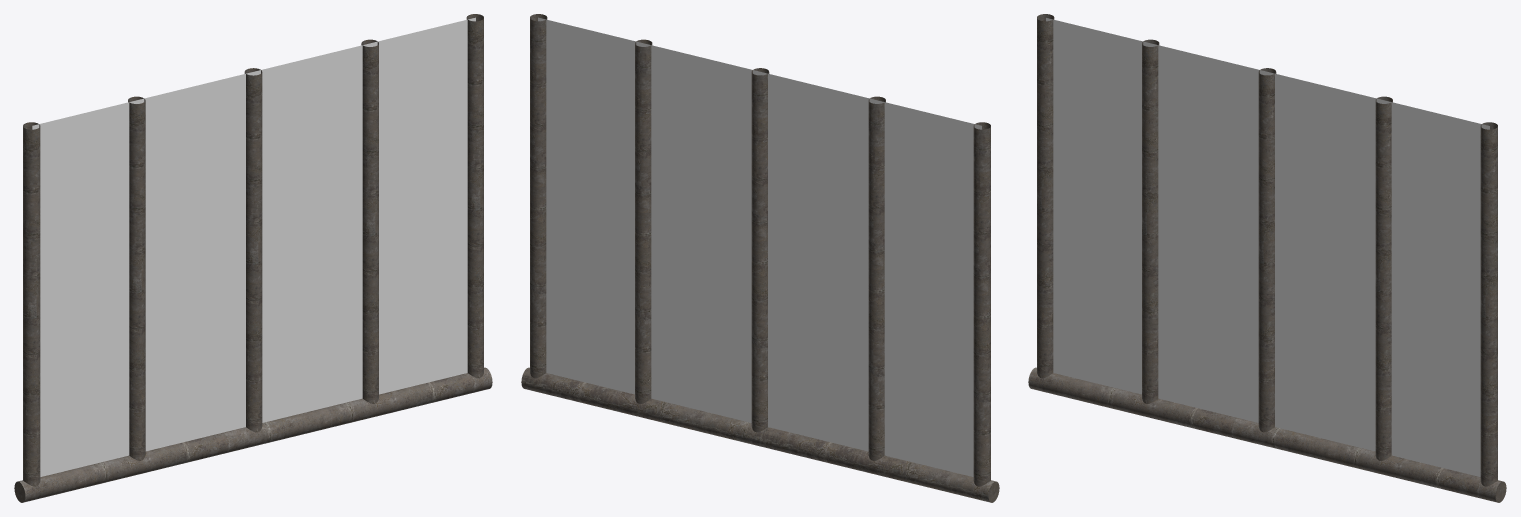
Rendered from WindowsSquare.fbx.
3 views of the same model, side by side, from view 1: azimuth 30°, elevation 25°; view 2: azimuth 150°, elevation 25°; view 3: azimuth 330°, elevation 25° (orthographic).
Parts seen in each view (by area): view 1: Trim_Window_Square; view 2: Trim_Window_Square; view 3: Trim_Window_Square.
Boxes of the visible parts, left/top/right/bottom form: Trim_Window_Square: left=14, top=14, right=492, bottom=502; Trim_Window_Square: left=521, top=14, right=999, bottom=502; Trim_Window_Square: left=1028, top=14, right=1506, bottom=502.
Bounding box in the file's own units: 1600 × 1222 × 65.55.
